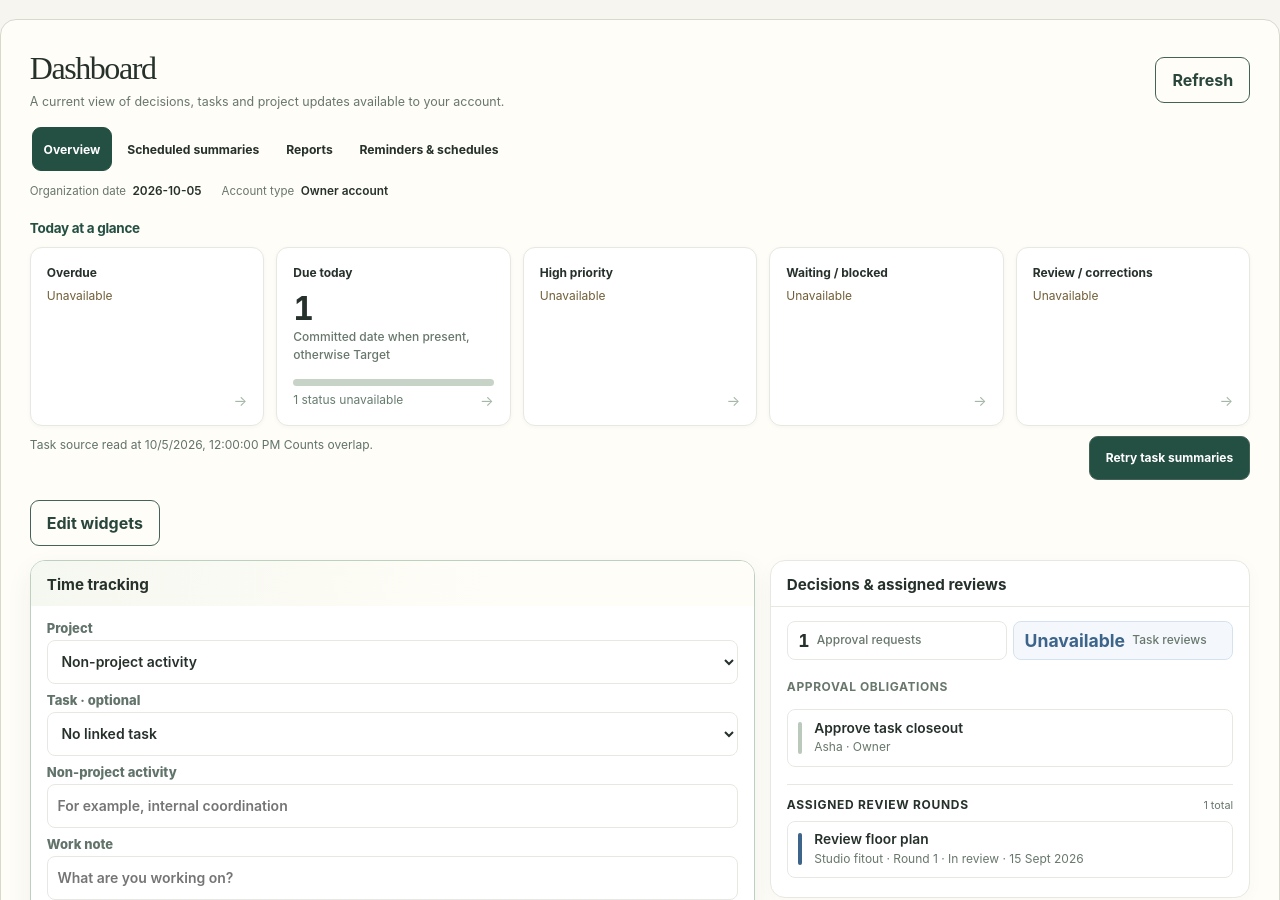
it: DashboardWorkspace › replaces open panel evidence during refresh and denied reads
This screenshot has width=1280, height=900.
Expected: the 1st text "1" is shown, [293,289,313,328]
Click the button with aria-label "Due today · 1 matching tasks" at (394, 337), box [276,247,511,426]
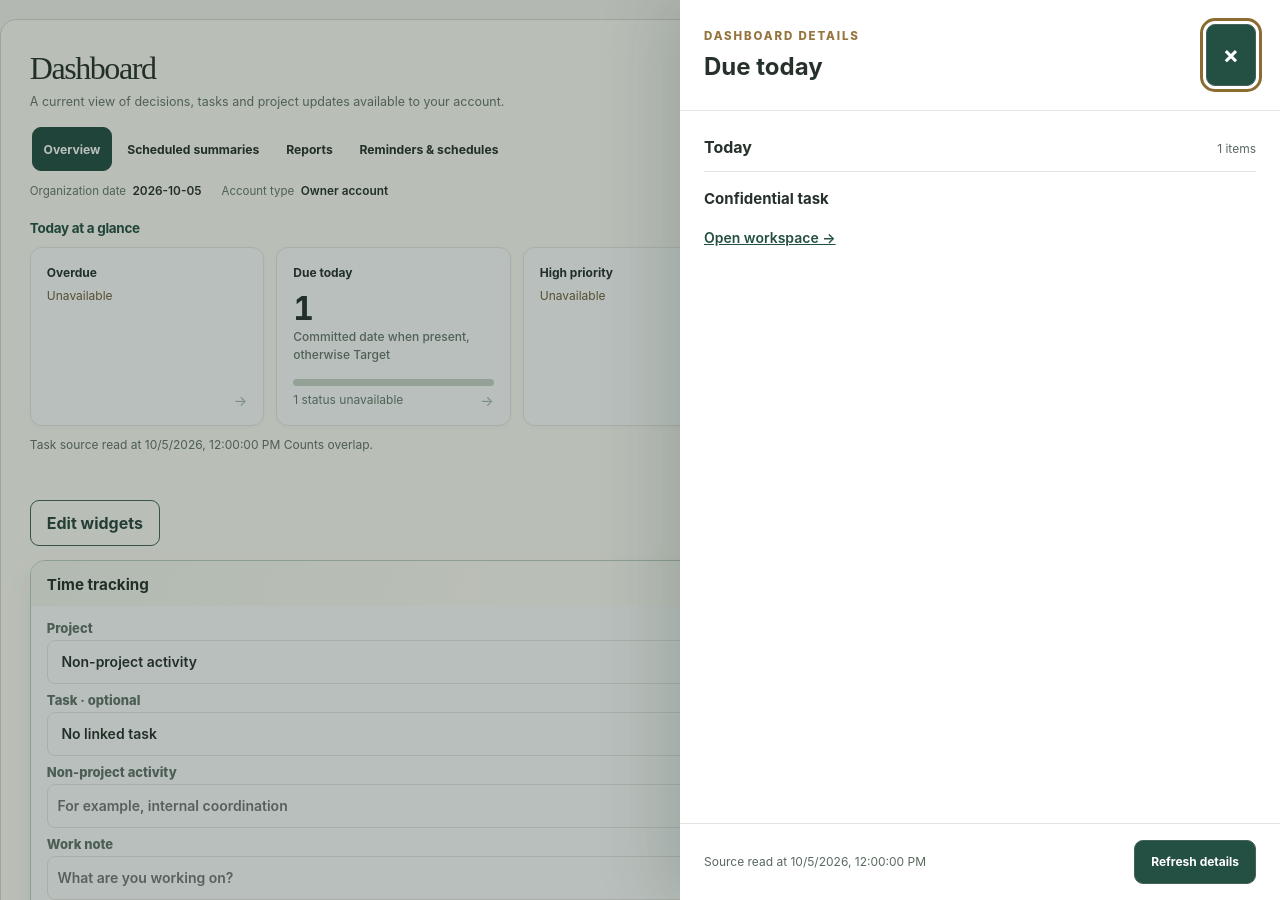
Expected: the text "Confidential task" is shown, [704,189,829,208]
Click the button "Refresh details" at (1195, 862), box [1134,840,1256,884]
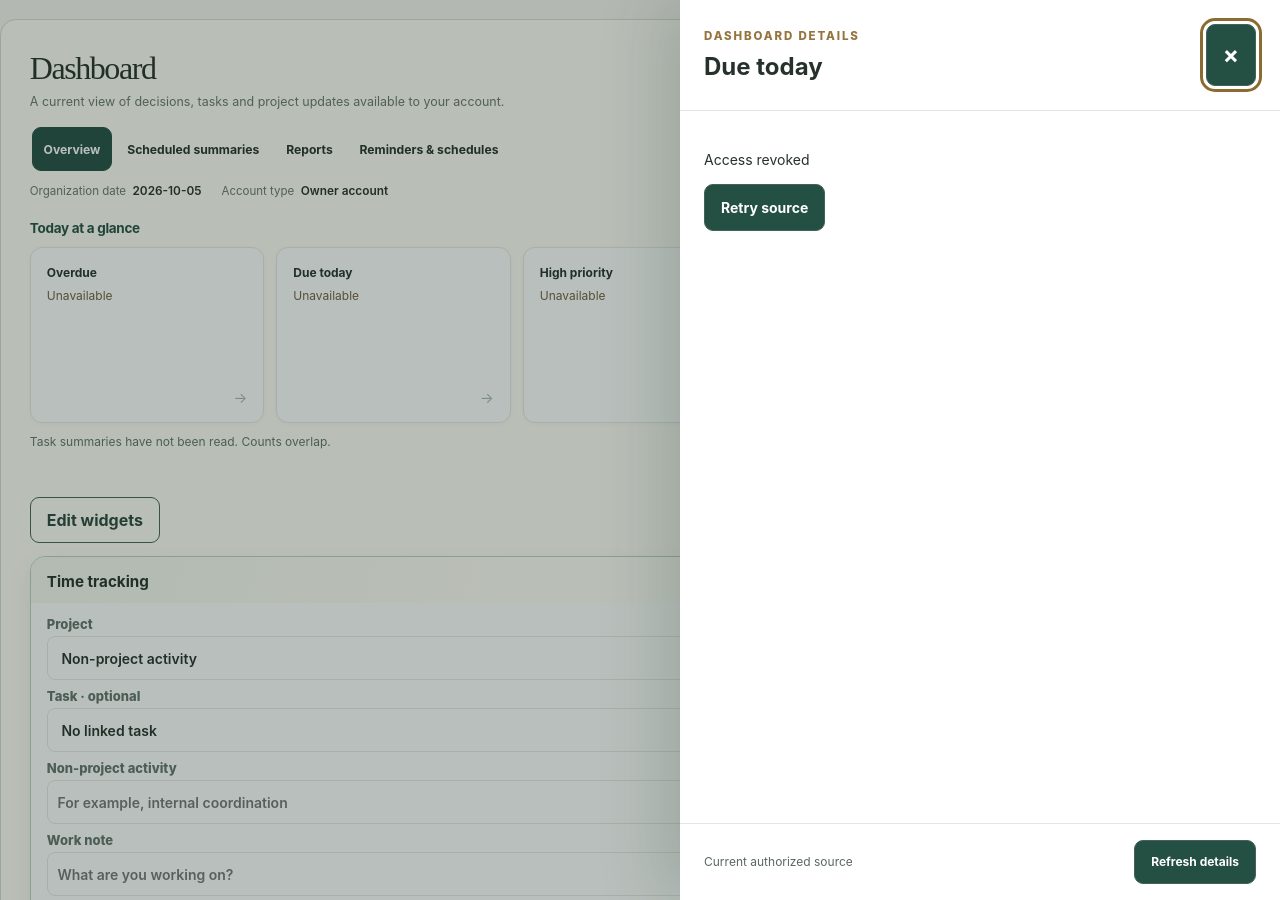
Expected: the message shows "Access revoked", [704,151,810,168]
Expected: the text "Confidential task" is gone
